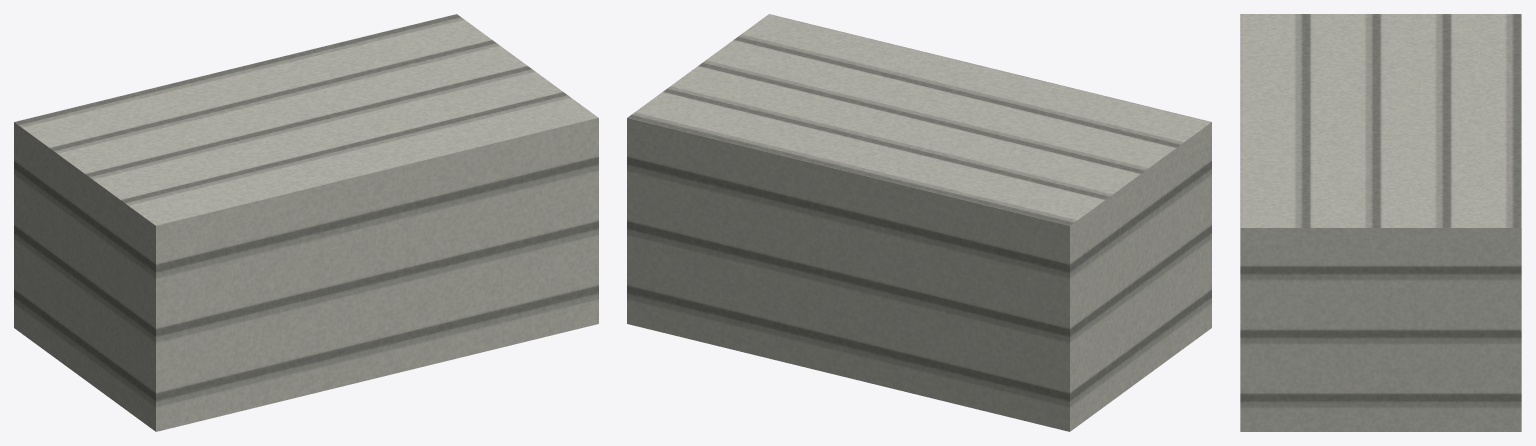
File: coffee_table.glb
3 views of the same model, side by side, from view 1: azimuth 30°, elevation 25°; view 2: azimuth 150°, elevation 25°; view 3: azimuth 270°, elevation 25° (orthographic).
Parts seen in each view (by area): view 1: coffee_table-col; view 2: coffee_table-col; view 3: coffee_table-col.
Boxes of the visible parts, x1,y1,x2,y2 form: coffee_table-col: (14, 14, 598, 431); coffee_table-col: (627, 14, 1211, 431); coffee_table-col: (1240, 14, 1521, 431).
Size of the model in its own units: 0.9 by 0.4 by 0.5.
Materials: 1 (1 with a texture image).
